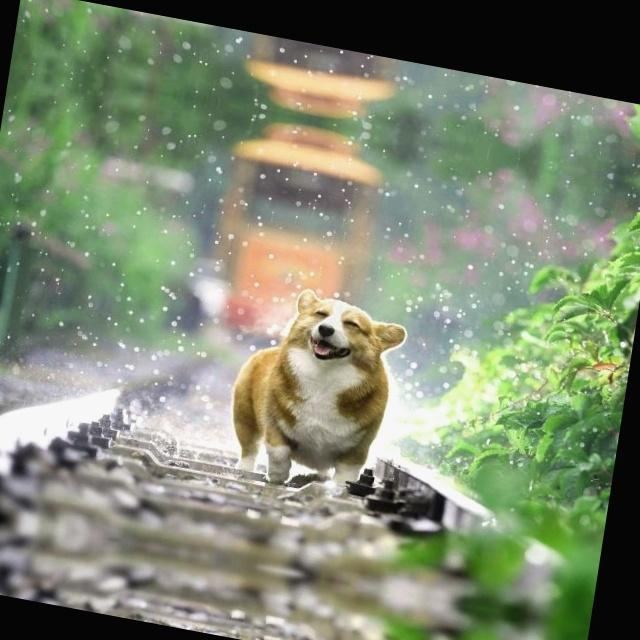dog: (215, 272, 424, 505)
